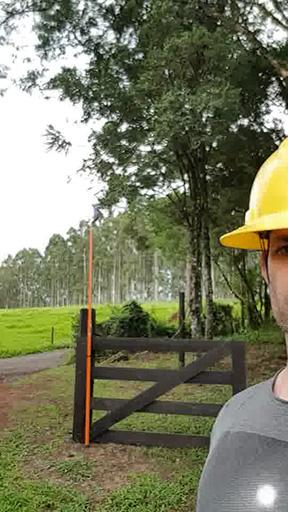Vara_Manobra: (83, 226, 96, 445)
